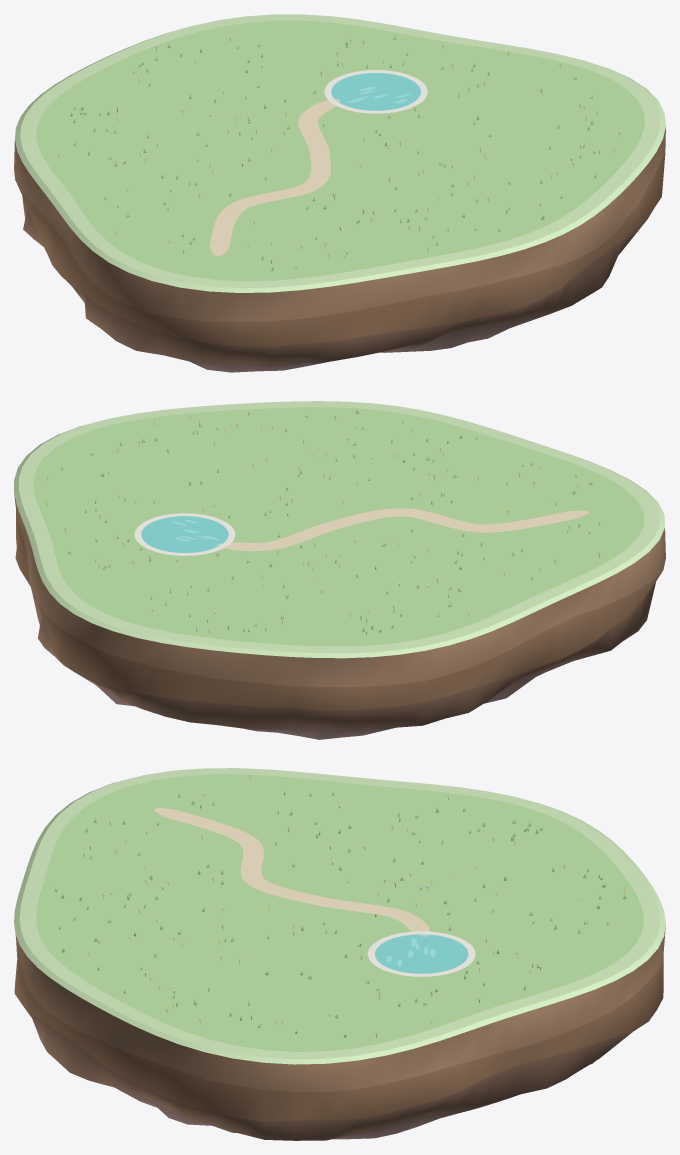
Rendered from island.glb.
The picture shows the model from 3 angles, top to bottom: view 1: azimuth 30°, elevation 25°; view 2: azimuth 150°, elevation 25°; view 3: azimuth 270°, elevation 25°; orthographic projection. The views are drawn at different scales.
Parts seen in each view (by area): view 1: IslandTop, IslandSides, Pond, Path, Dressing; view 2: IslandTop, IslandSides, Path, Pond, Dressing; view 3: IslandTop, IslandSides, Pond, Path, Dressing.
Boxes of the visible parts, x1,y1,x2,y2 form: IslandTop: [15, 14, 665, 292]; IslandSides: [14, 127, 665, 372]; Pond: [324, 70, 427, 113]; Path: [209, 98, 340, 255]; Dressing: [57, 36, 620, 270]; IslandTop: [14, 401, 664, 658]; IslandSides: [14, 495, 665, 739]; Path: [217, 508, 588, 551]; Pond: [134, 513, 235, 555]; Dressing: [46, 410, 600, 634]; IslandTop: [14, 768, 665, 1064]; IslandSides: [14, 925, 665, 1140]; Pond: [367, 931, 475, 976]; Path: [154, 808, 429, 936]; Dressing: [54, 775, 626, 1037].
Bounding box in the file's own units: 44.41 × 13.34 × 41.08.
